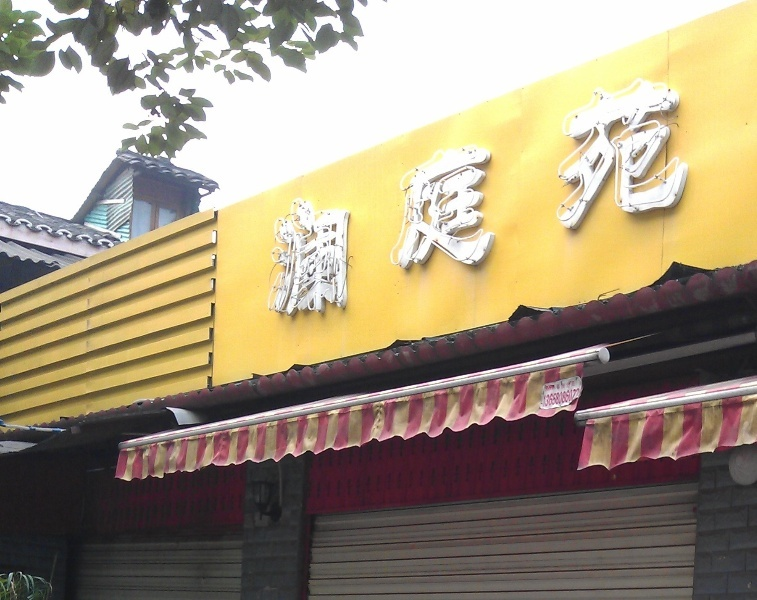text: (273, 64, 288, 335), (289, 64, 304, 335), (305, 64, 320, 335), (321, 64, 336, 335), (337, 64, 352, 335), (353, 64, 368, 335), (369, 64, 384, 335), (385, 64, 400, 335), (401, 64, 416, 335), (417, 64, 432, 335), (433, 64, 448, 335), (449, 64, 464, 335), (465, 64, 480, 335), (481, 64, 496, 335), (497, 64, 512, 335), (513, 64, 528, 335), (529, 64, 544, 335), (545, 64, 560, 335), (561, 64, 576, 335), (577, 64, 592, 335), (593, 64, 608, 335), (609, 64, 624, 335), (625, 64, 640, 335), (641, 64, 656, 335), (657, 64, 672, 335), (673, 64, 688, 335), (689, 64, 694, 335), (270, 64, 272, 335), (545, 387, 560, 408), (561, 387, 576, 408), (561, 380, 576, 392), (546, 380, 560, 392), (577, 387, 581, 408)
